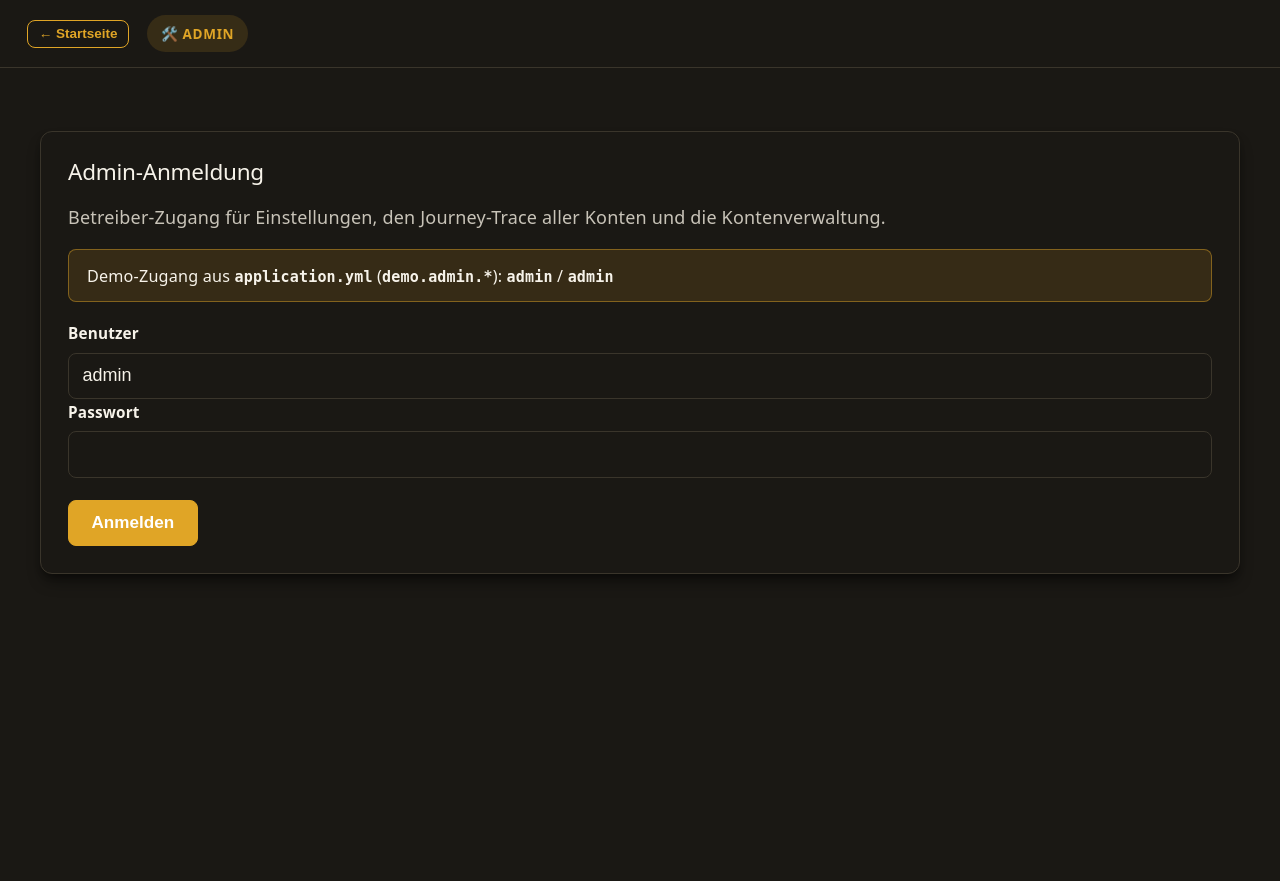
Test: AdminApp › keeps the login form on wrong credentials and opens the admin tabs on the right ones
The width and height of the screenshot is (1280, 881).
In the password field labelled "Passwort": [640, 455] box [68,432,1212,478], type "falsch"
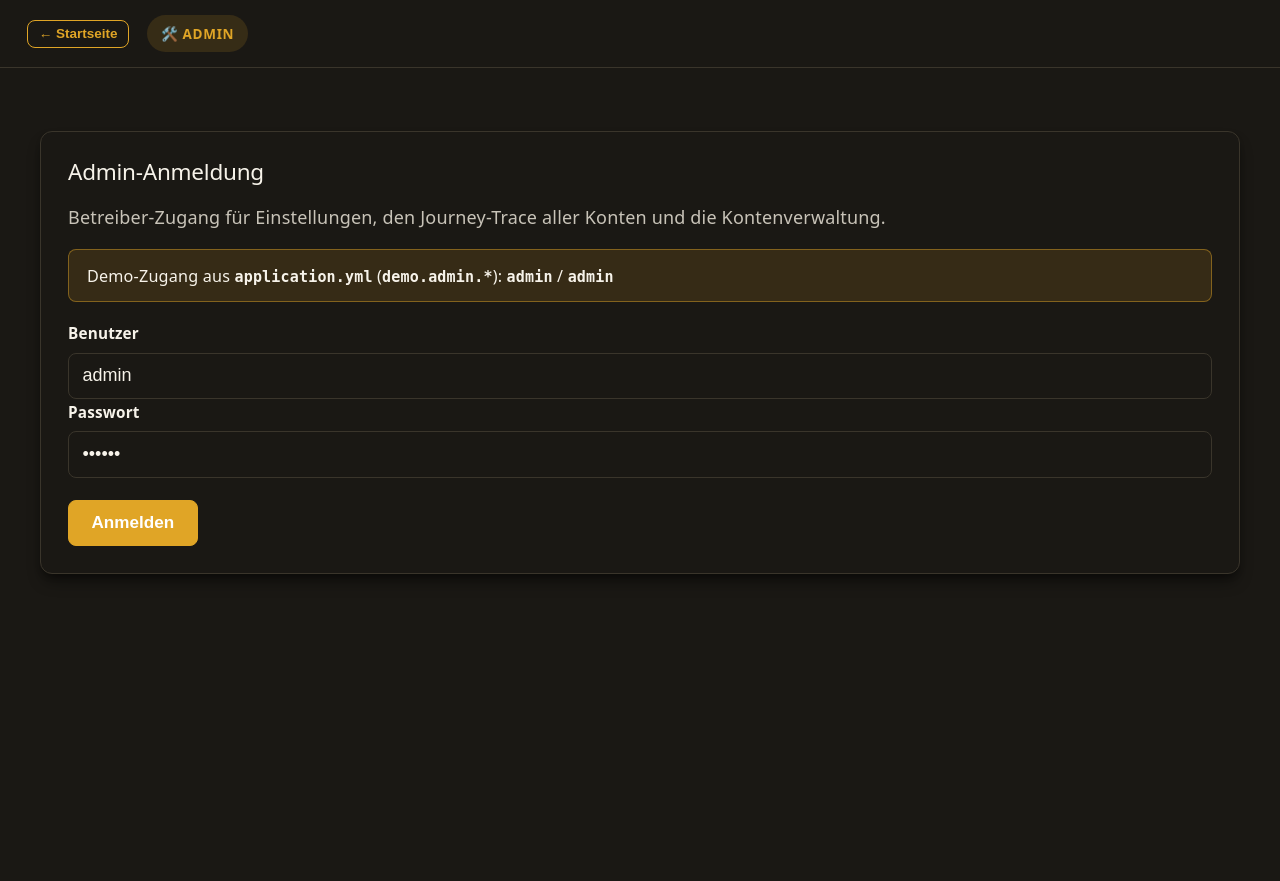
Click the button "Anmelden": [133, 523] box [68,500,198,546]
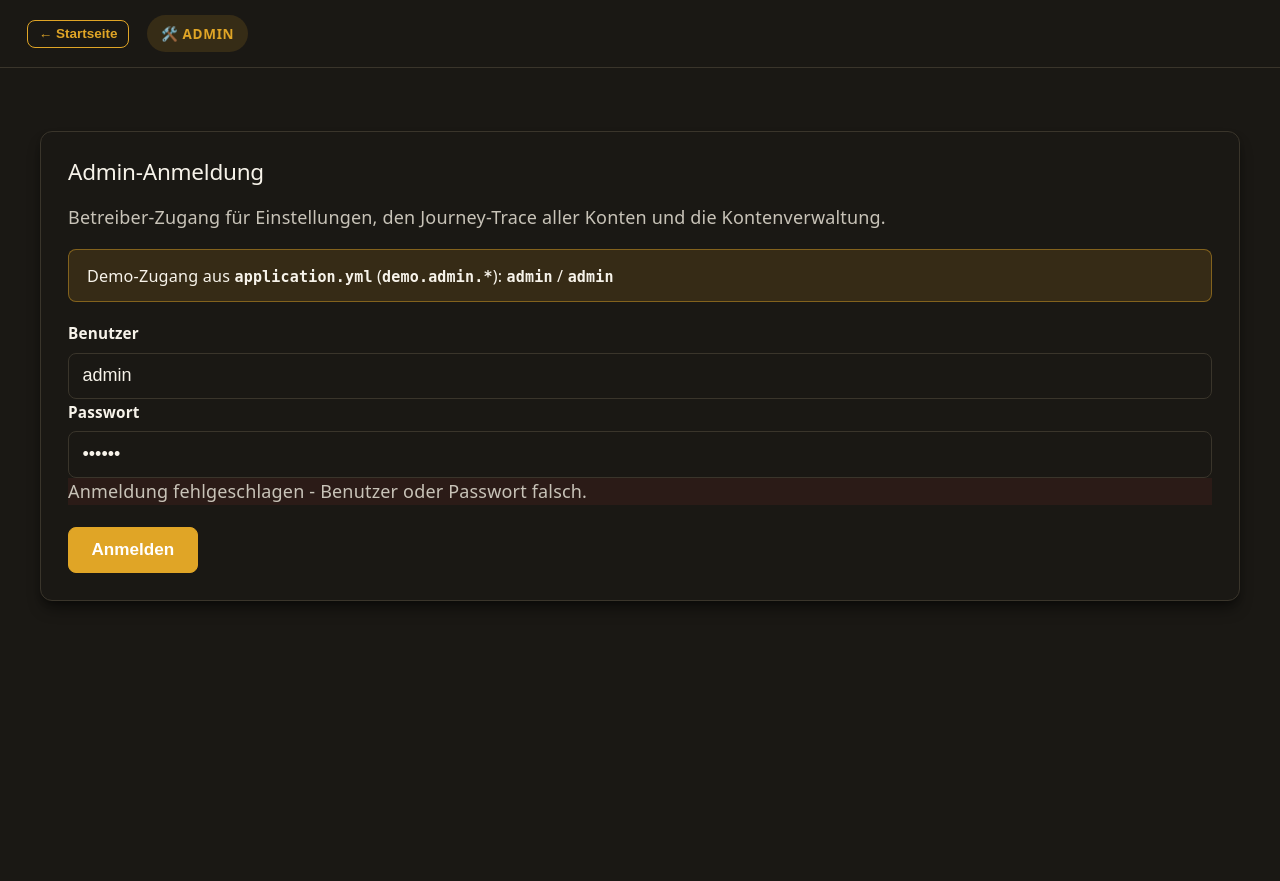
expect the text "Anmeldung fehlgeschlagen - Benutzer oder Passwort falsch." is shown: met, box [68,478,1212,505]
In the password field labelled "Passwort": [640, 455] box [68,432,1212,478], type "admin"
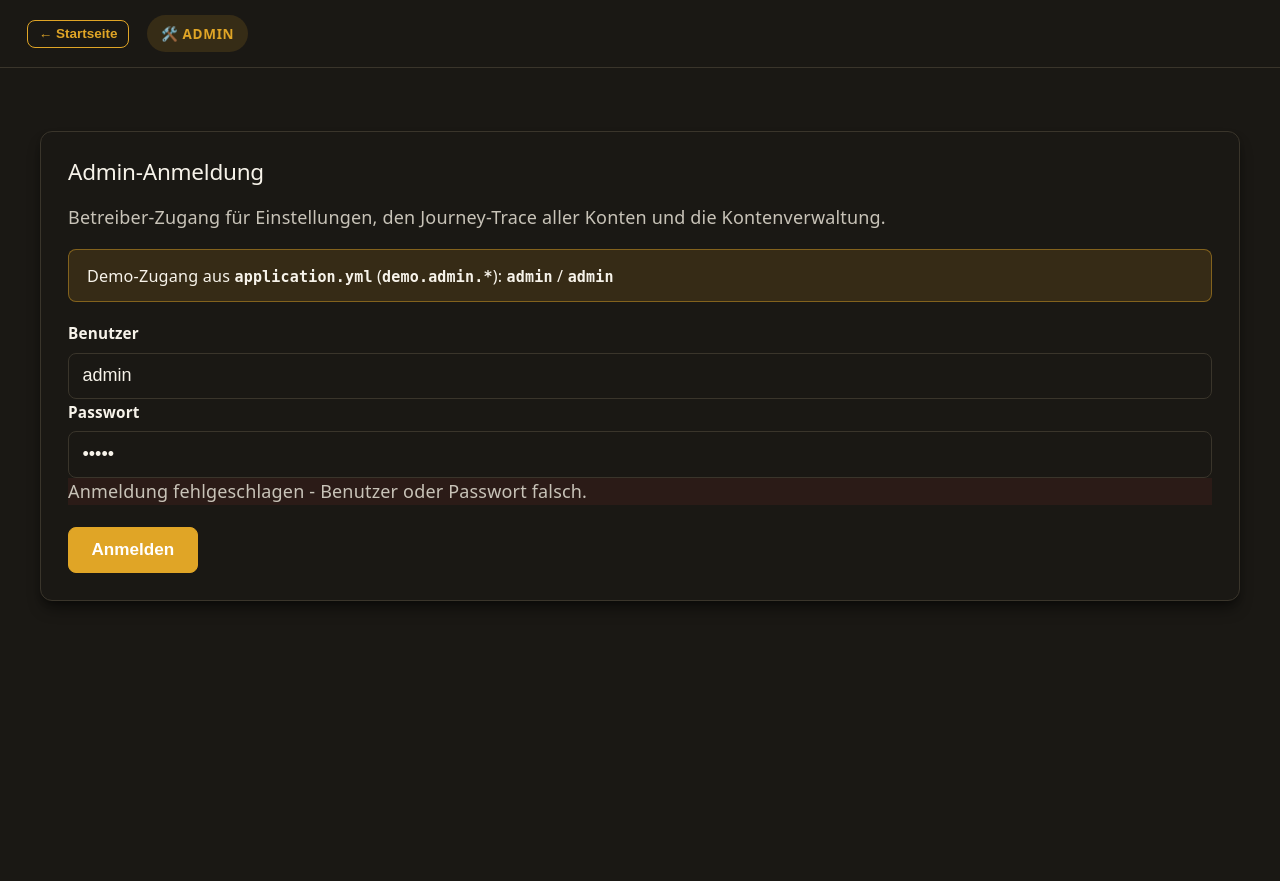
Click the button "Anmelden": [133, 550] box [68,527,198,573]
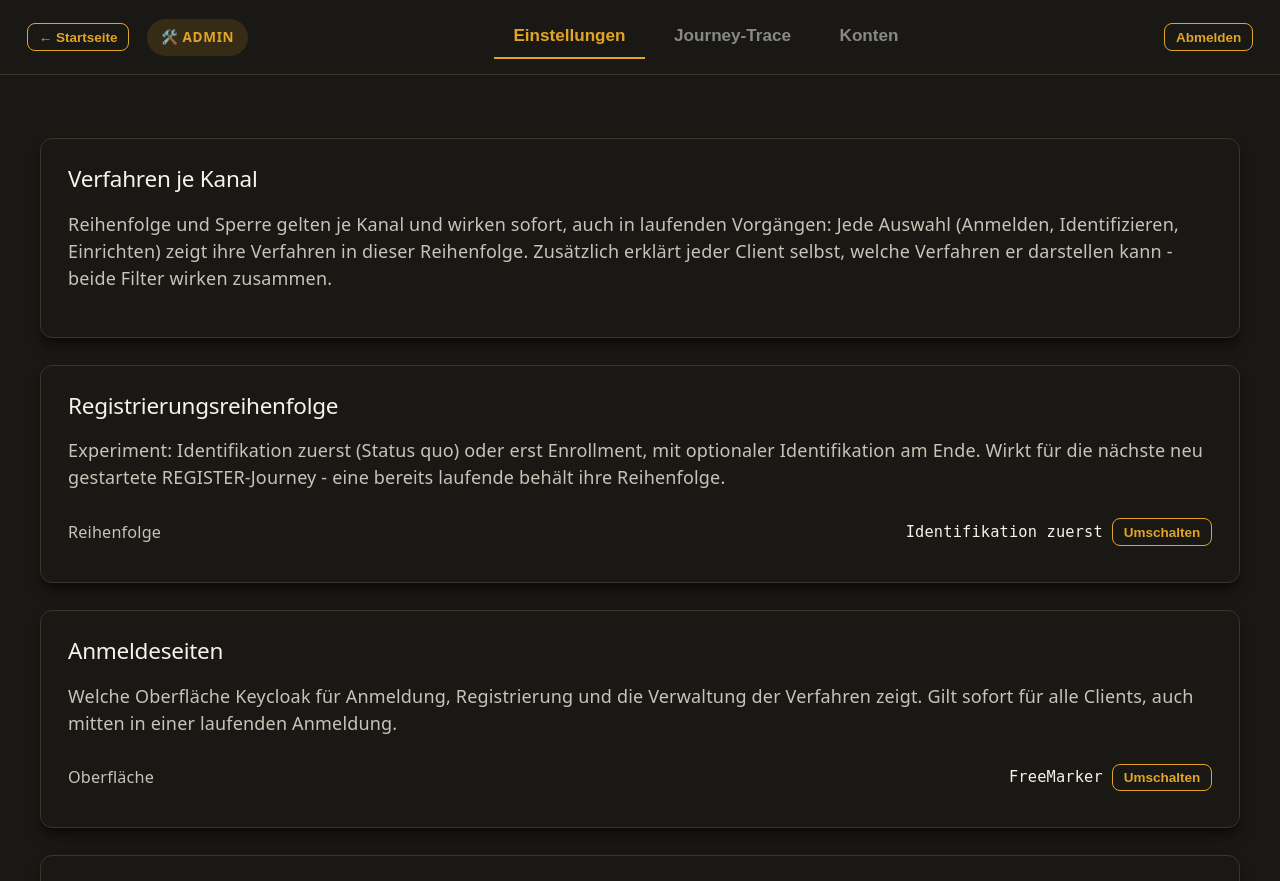
expect the tab "Journey-Trace" is shown: met, box [654,15,811,59]
expect the button "Abmelden" is shown: met, box [1164,23,1253,51]
